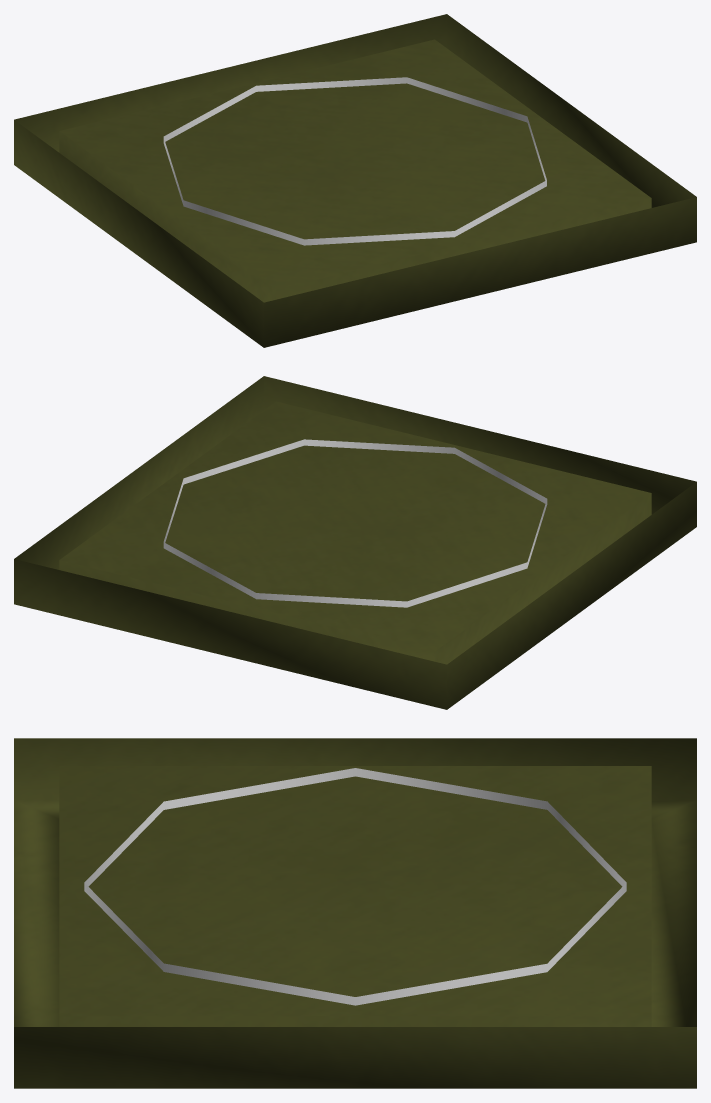
The model's file is LGSeochoB1LightCeilingSm.fbx.
3 views of the same model, one above another, from view 1: azimuth 30°, elevation 25°; view 2: azimuth 150°, elevation 25°; view 3: azimuth 270°, elevation 25° (orthographic). The views are drawn at different scales.
Visible parts, largest first — view 1: LGSeochoB1LightMetal, LGSeochoB1LightHead; view 2: LGSeochoB1LightMetal, LGSeochoB1LightHead; view 3: LGSeochoB1LightMetal, LGSeochoB1LightHead.
Part boxes in pixels (x1=…): LGSeochoB1LightMetal: x1=14, y1=14, x2=696, y2=347; LGSeochoB1LightHead: x1=163, y1=77, x2=546, y2=245; LGSeochoB1LightMetal: x1=14, y1=376, x2=696, y2=709; LGSeochoB1LightHead: x1=163, y1=439, x2=547, y2=607; LGSeochoB1LightMetal: x1=14, y1=738, x2=696, y2=1088; LGSeochoB1LightHead: x1=84, y1=768, x2=626, y2=1005.
Size of the model in its own units: 10 by 1 by 10.
Materials: 2 (1 with a texture image).
